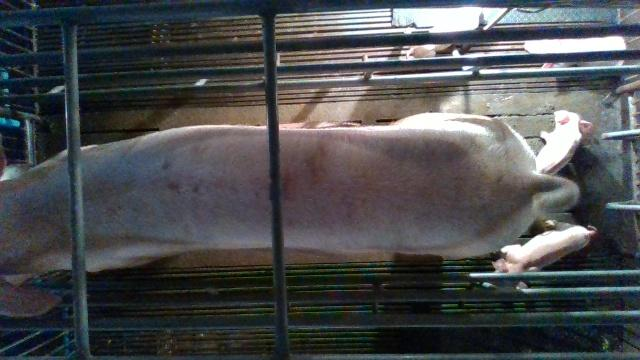piglet: (491, 221, 597, 288), (407, 7, 489, 59), (536, 110, 593, 175), (524, 36, 627, 68)
sow-stand-feed: (0, 111, 579, 318)
